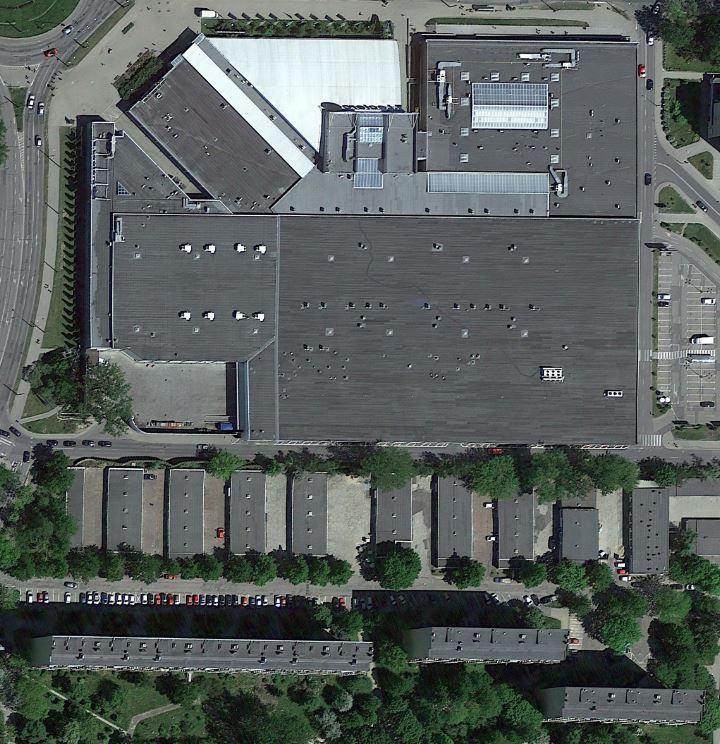block of flats: (14, 626, 387, 691), (396, 613, 575, 685), (536, 683, 711, 728)
garage: (430, 463, 480, 575), (624, 475, 675, 582), (491, 464, 537, 574), (556, 470, 605, 568), (97, 465, 146, 561), (162, 461, 206, 559), (226, 465, 269, 557), (288, 469, 331, 561), (53, 462, 93, 557), (372, 467, 416, 553)
shopping_center: (75, 25, 644, 455)
